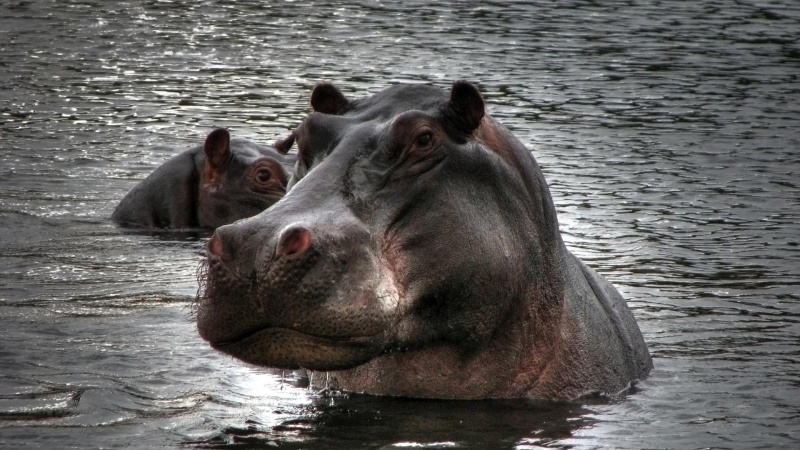hipopotamo: (188, 73, 670, 431), (104, 124, 298, 243)
